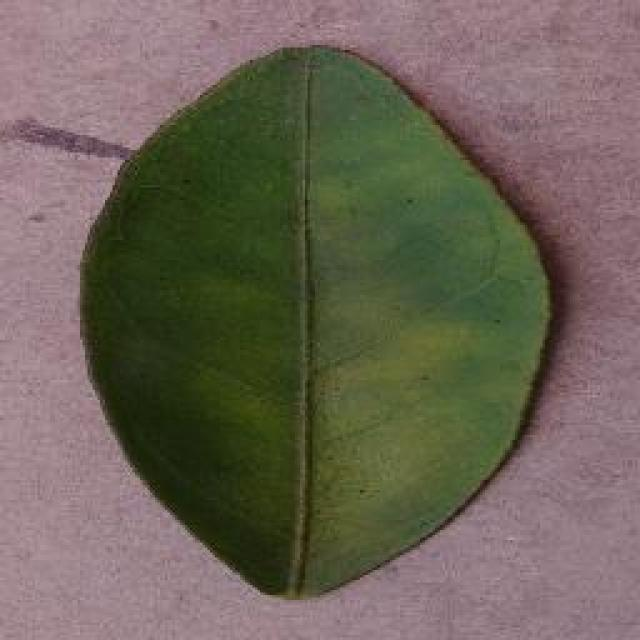Orange_Haunglongbing_Citrus_greening: (123, 80, 505, 556)
